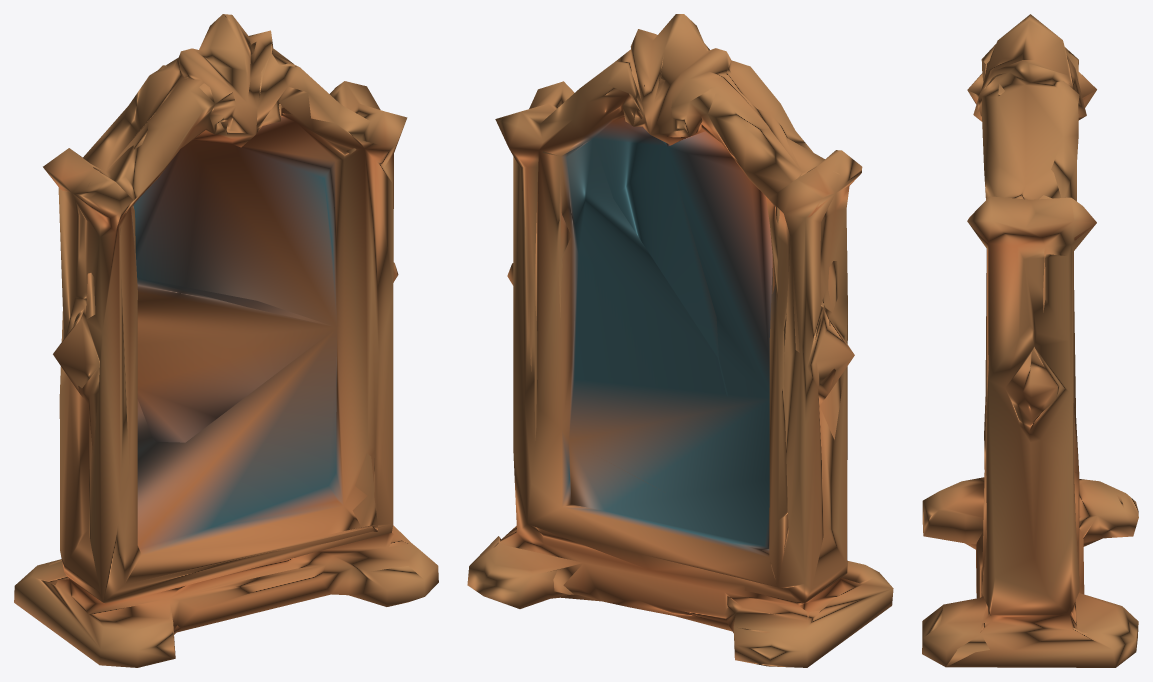
The model's file is gen3d-magic-mirror-lod1.glb.
The picture shows the model from 3 angles, left to right: view 1: azimuth 30°, elevation 25°; view 2: azimuth 150°, elevation 25°; view 3: azimuth 270°, elevation 25°; orthographic projection.
Parts seen in each view (by area): view 1: part_0; view 2: part_0; view 3: part_0.
Part boxes in pixels (bbox=[...]): part_0: bbox=[14, 14, 438, 667]; part_0: bbox=[467, 14, 893, 667]; part_0: bbox=[922, 14, 1138, 667].
Bounding box in the file's own units: 0.6207 × 0.9951 × 0.3419.
